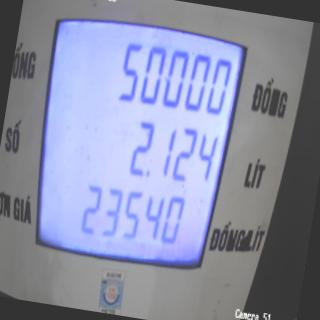screen: (16, 0, 255, 286)
